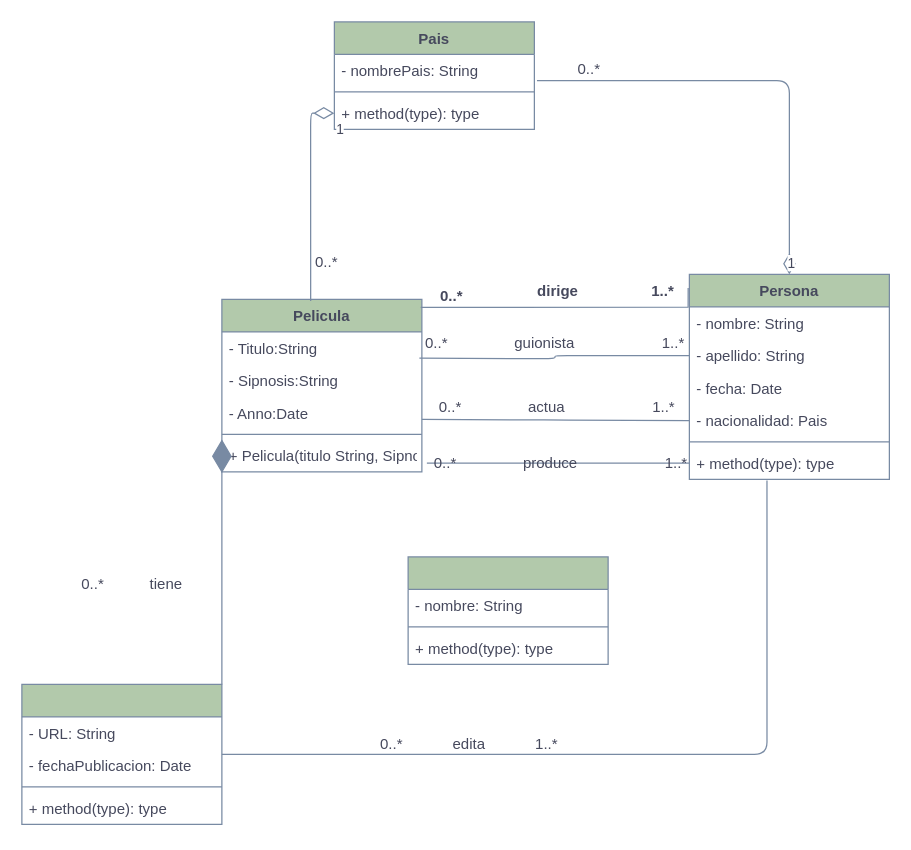
This 911x850 diagram has some shape labels left out. The box of each missing label's shape, as (x1, y1, x2, y2) in pixels:
Genero: (407, 556, 608, 664)
Trailer: (21, 683, 222, 824)
